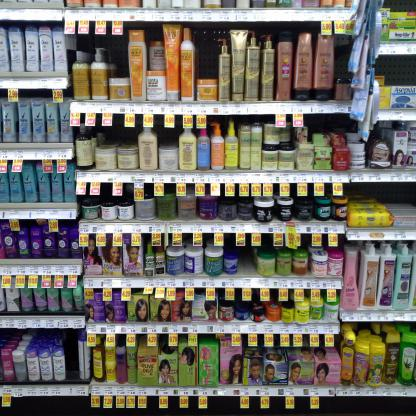Void: (198, 35, 219, 79), (396, 184, 414, 226), (64, 336, 80, 381), (391, 61, 415, 83), (338, 31, 348, 81), (113, 45, 126, 76), (103, 131, 136, 143), (240, 250, 253, 271), (161, 132, 176, 143)
